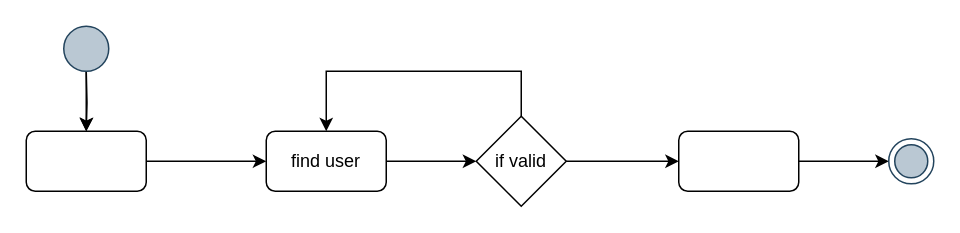
The diagram is 960 pixels wide and 233 high, and some of its shapes have lost their labels. The centre of each missing label's shape, as x and y in pixels:
"chaneg owner" goes at (x=738, y=160).
"change ownership" goes at (x=85, y=160).
